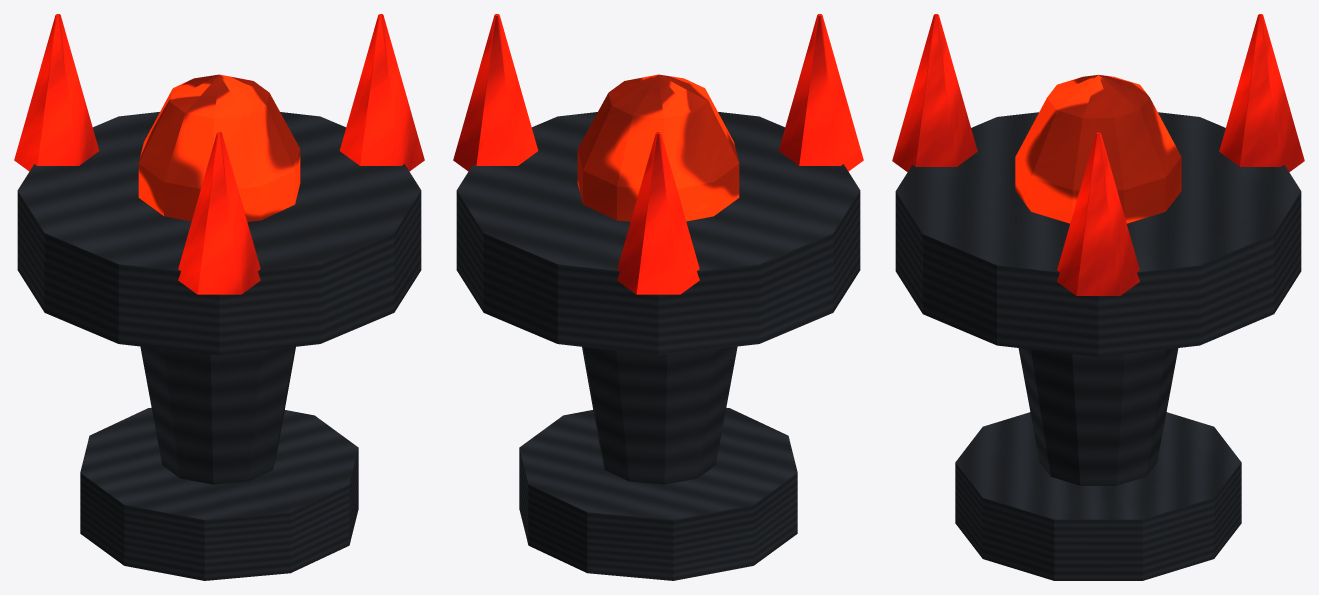
The model's file is SM_FC_Brazier.fbx.
The picture shows the model from 3 angles, left to right: view 1: azimuth 30°, elevation 25°; view 2: azimuth 150°, elevation 25°; view 3: azimuth 270°, elevation 25°; orthographic projection.
Parts seen in each view (by area): view 1: SM_FC_Brazier; view 2: SM_FC_Brazier; view 3: SM_FC_Brazier.
Boxes of the visible parts, x1,y1,x2,y2 form: SM_FC_Brazier: (14, 14, 424, 580); SM_FC_Brazier: (453, 14, 863, 580); SM_FC_Brazier: (892, 14, 1304, 580).
Size of what is drawn, in the model's own units: 1.65 by 1.99 by 1.59.
